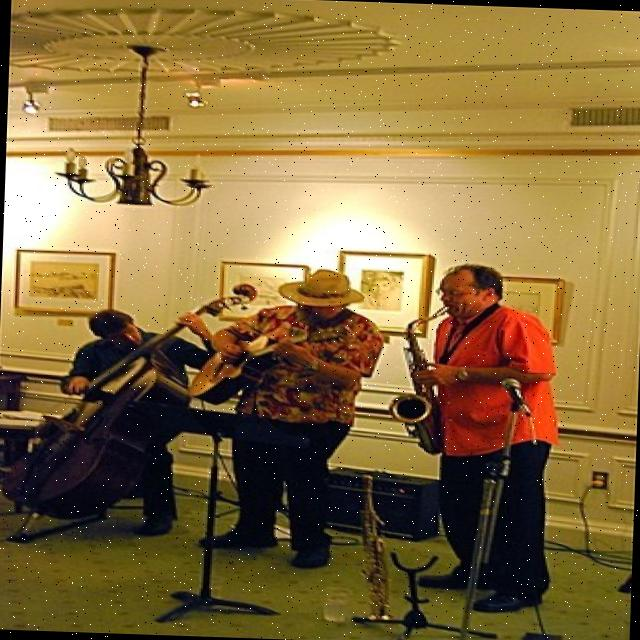cello: (0, 271, 263, 550)
guitar: (174, 316, 356, 412)
saxophone: (382, 298, 461, 456)
